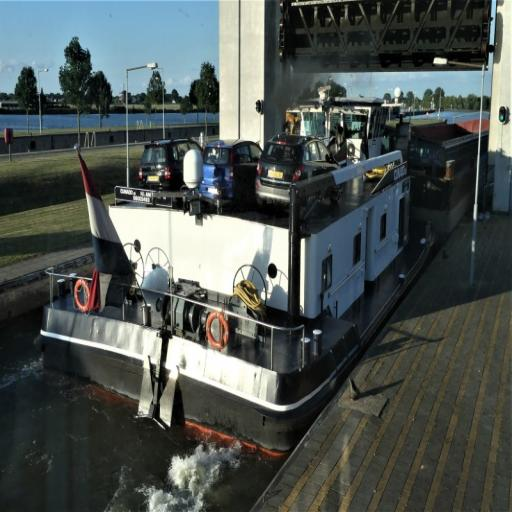tugboat: (39, 83, 444, 470)
